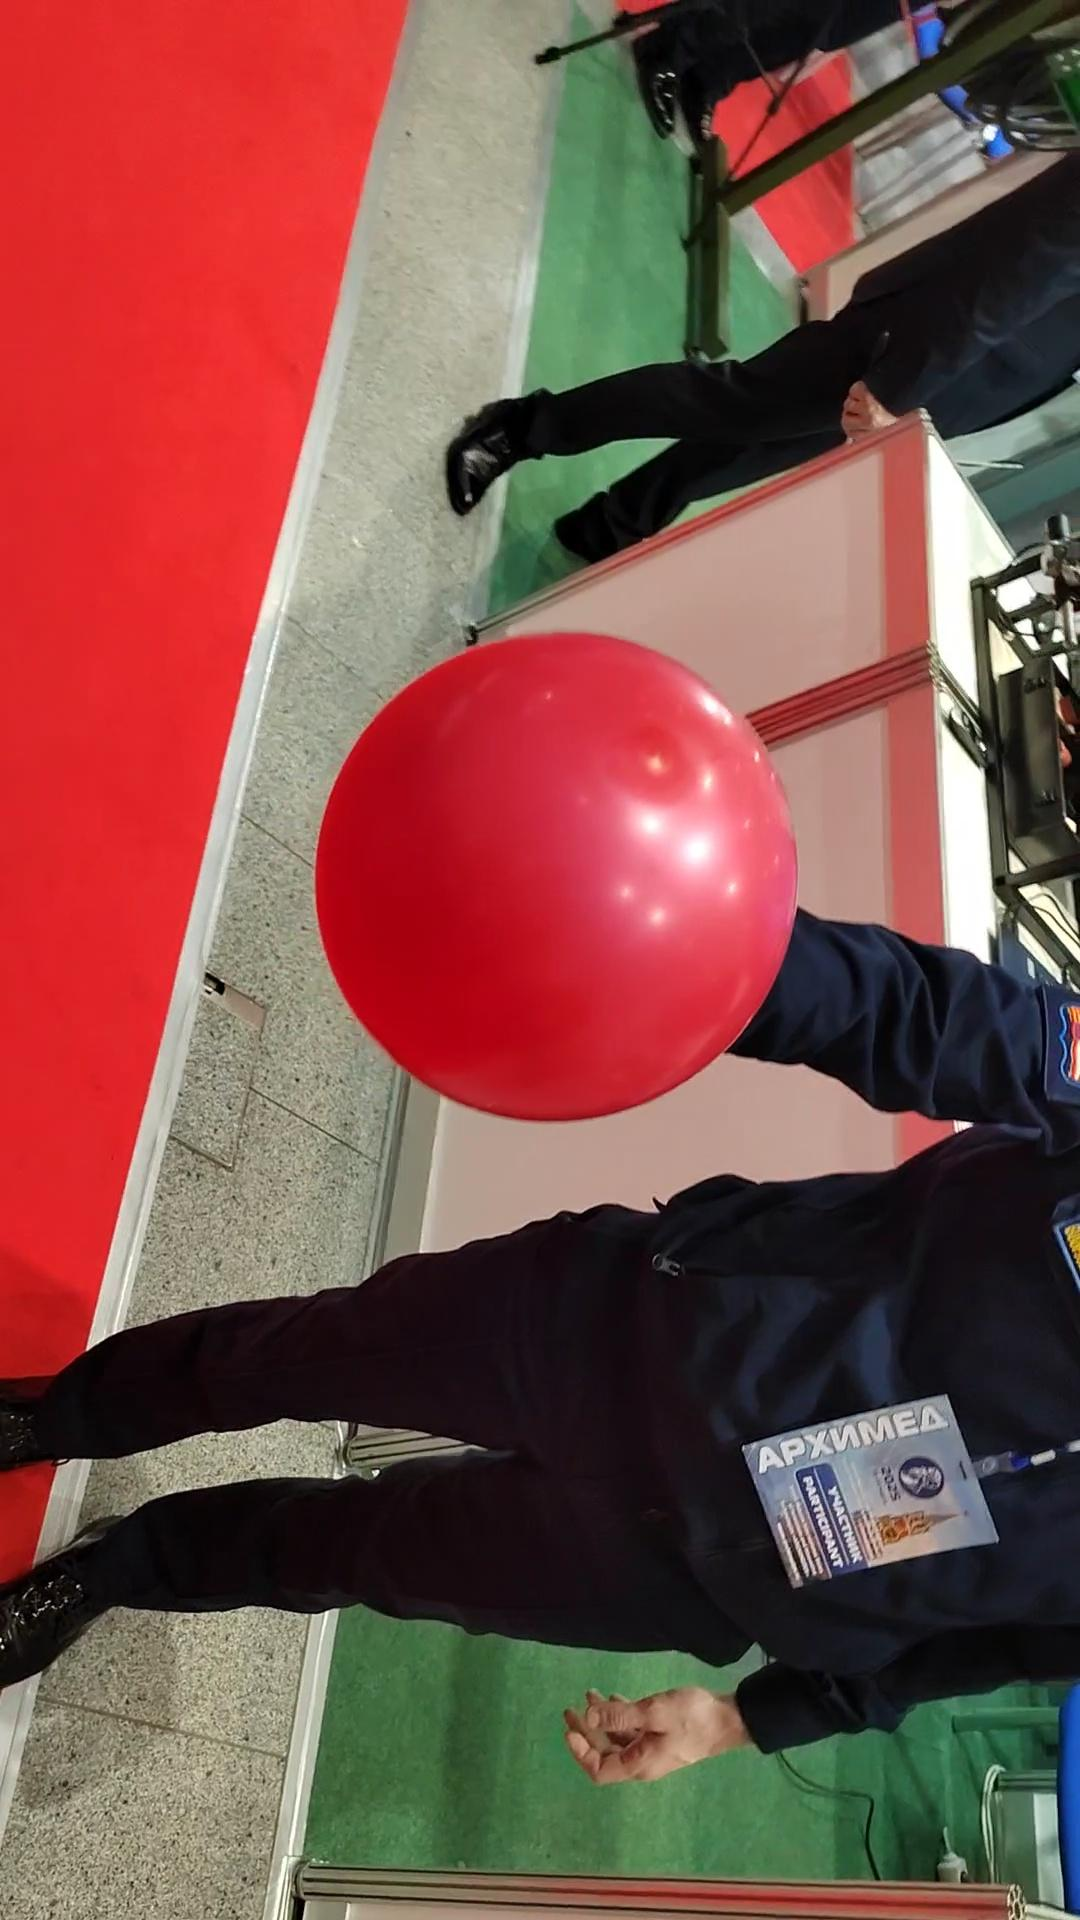red: (301, 617, 814, 1134)
